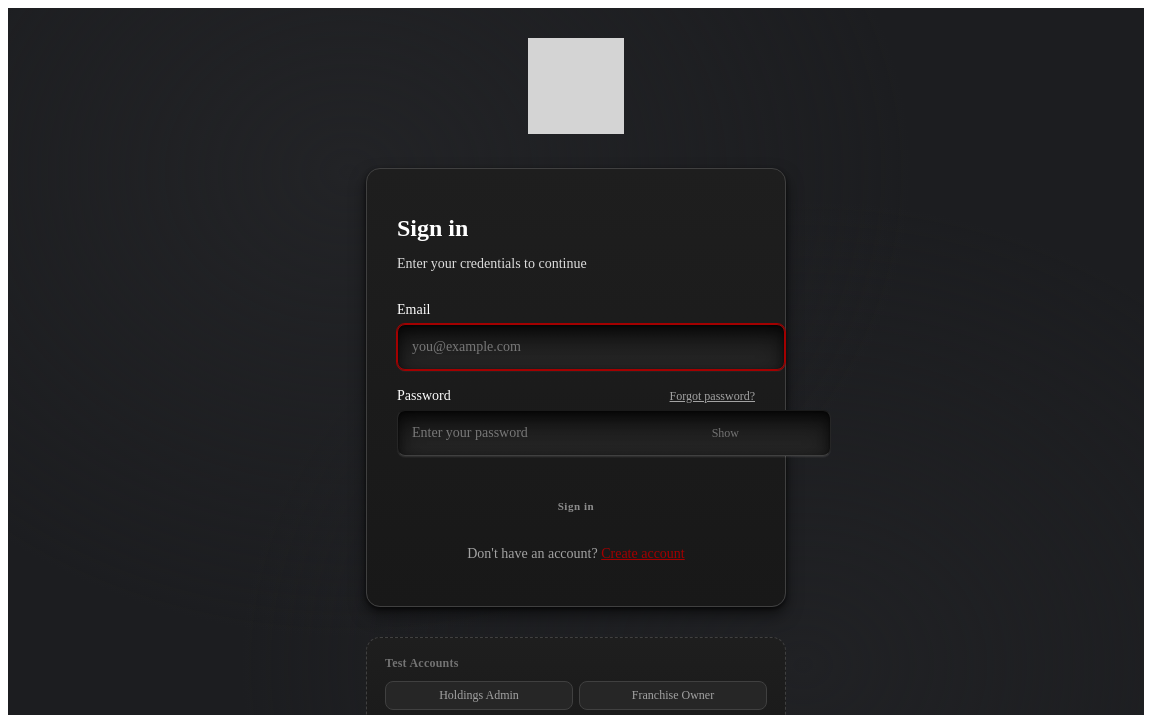
Test: failed login › displays error message from server response
Type "bad@test.com" into the field with placeholder "you@example.com" at (591,347), box [397,324,785,370]
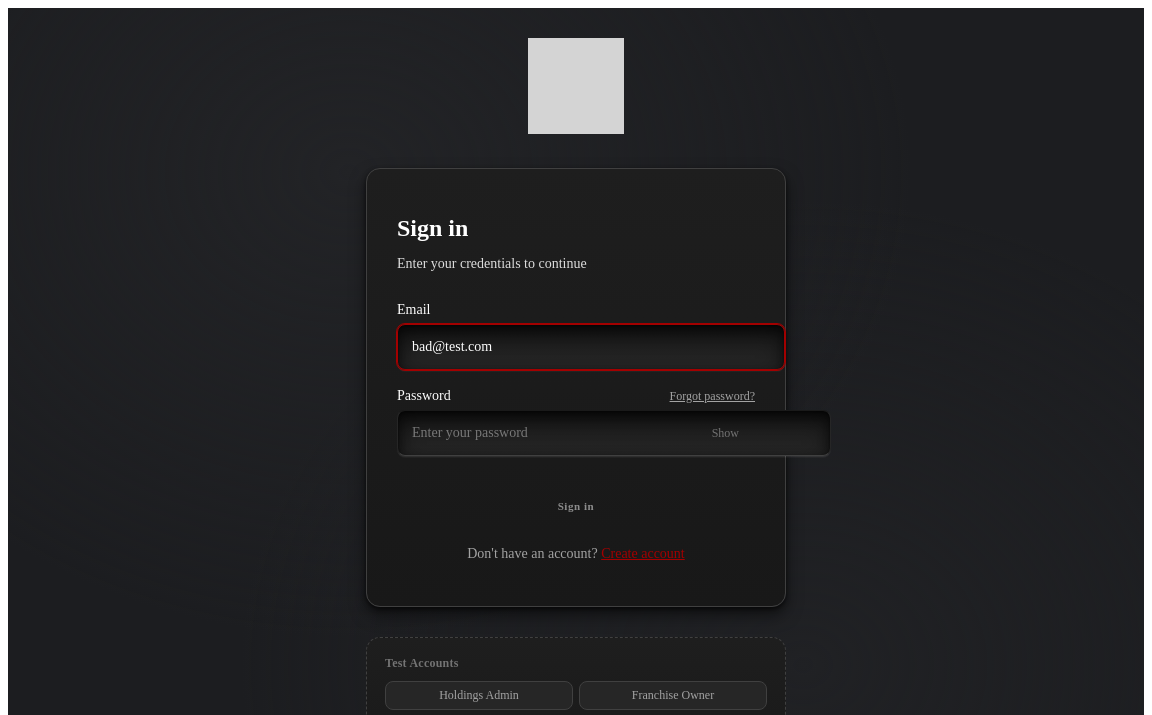
Type "wrong" into the password field with placeholder "Enter your password" at (614,433), box [397,410,831,456]
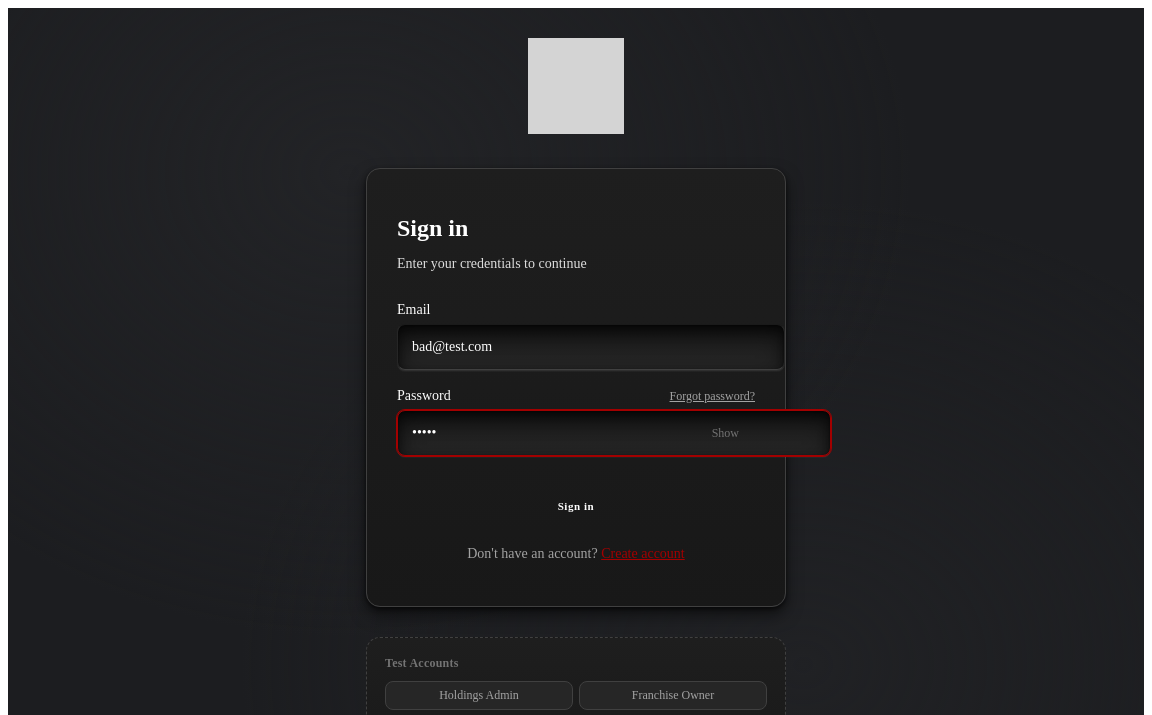
Click the button "Sign in" at (576,506), box [397,484,755,528]
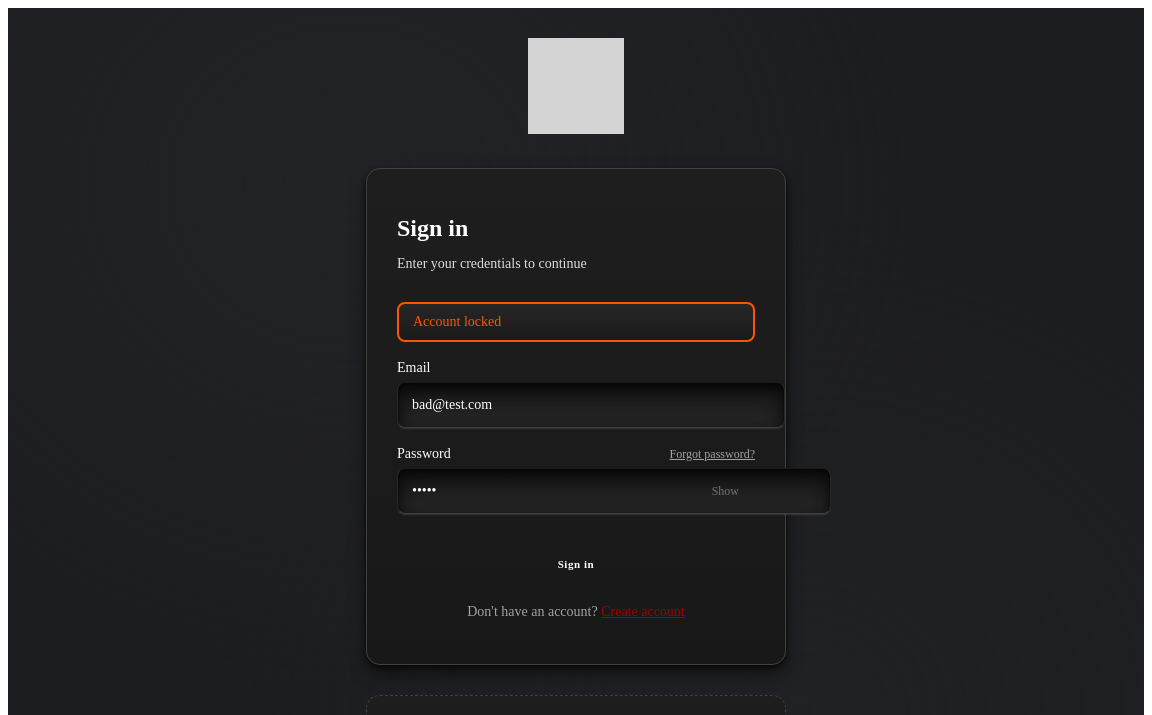
expect the text "Account locked" is shown: met, box [397,302,755,342]
